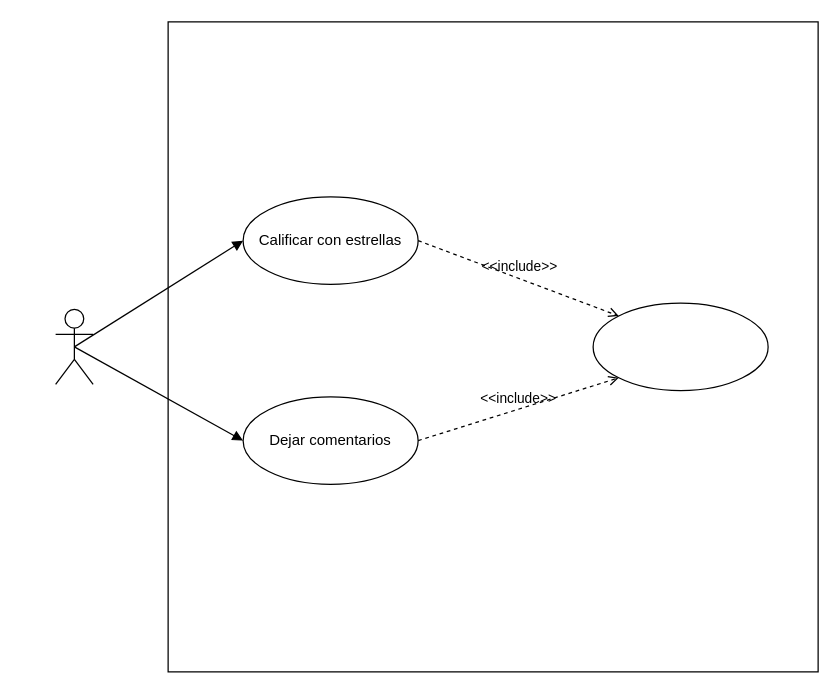
The diagram is 840 pixels wide and 694 high, and some of its shapes have lost their labels. The box of each missing label's shape, as (x1, y1, x2, y2) in pixels:
Contribuir a la reputación del usuario: (592, 302, 768, 391)
Usuario alumno: (54, 308, 93, 384)
